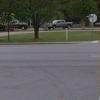Tree: (9, 0, 52, 32)
